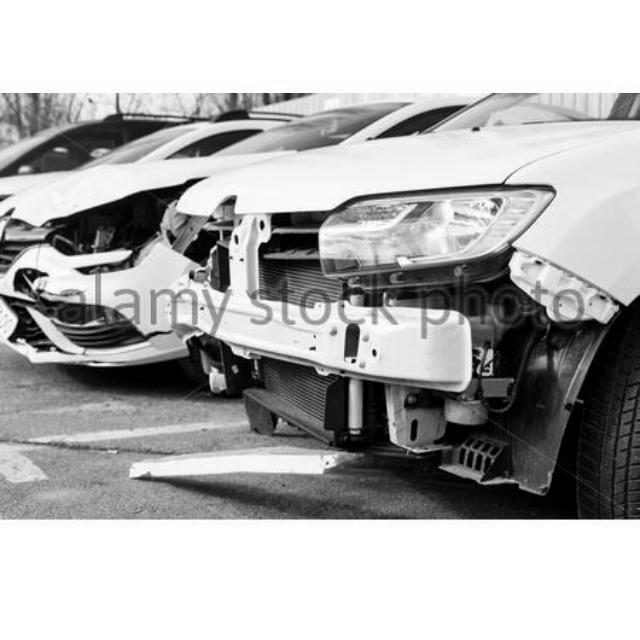front-bumper-dent: (116, 252, 586, 485), (2, 234, 198, 371)
